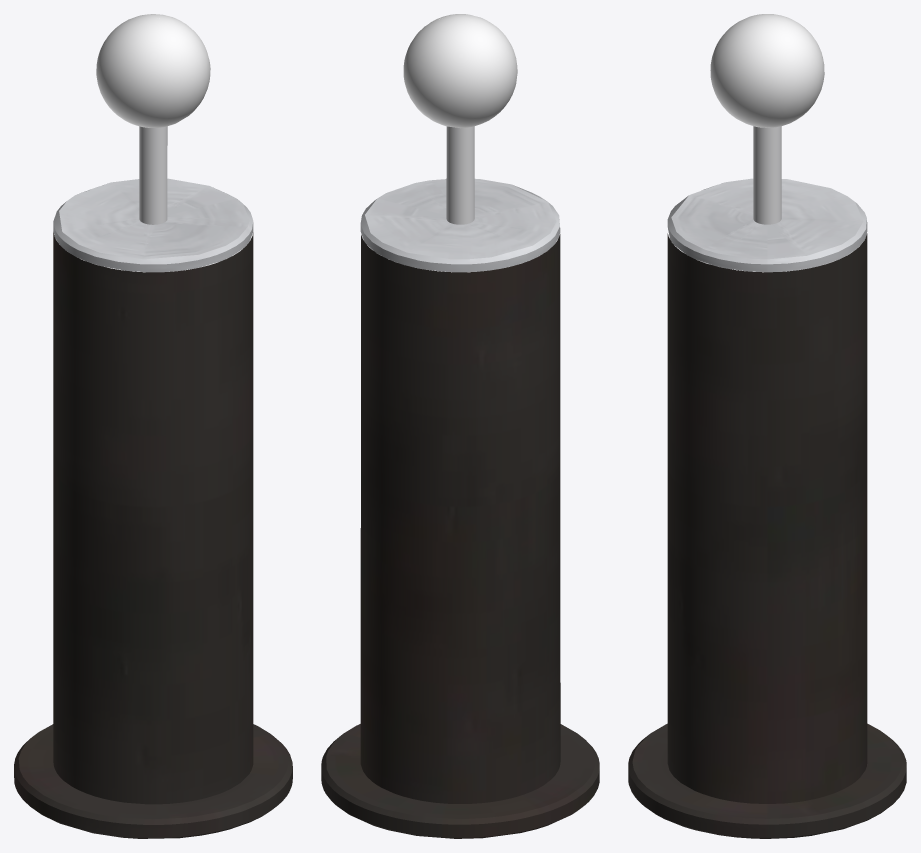
The model's file is ferro-orbis_king_black.glb.
The picture shows the model from 3 angles, left to right: view 1: azimuth 30°, elevation 25°; view 2: azimuth 150°, elevation 25°; view 3: azimuth 270°, elevation 25°; orthographic projection.
Parts seen in each view (by area): view 1: ferro-orbis_king_black; view 2: ferro-orbis_king_black; view 3: ferro-orbis_king_black.
Boxes of the visible parts, bbox=[...] form: ferro-orbis_king_black: bbox=[14, 14, 292, 838]; ferro-orbis_king_black: bbox=[321, 14, 599, 838]; ferro-orbis_king_black: bbox=[628, 14, 906, 838].
Size of the model in its own units: 0.0331 by 0.1 by 0.0331.
4 materials, 2 textured.
